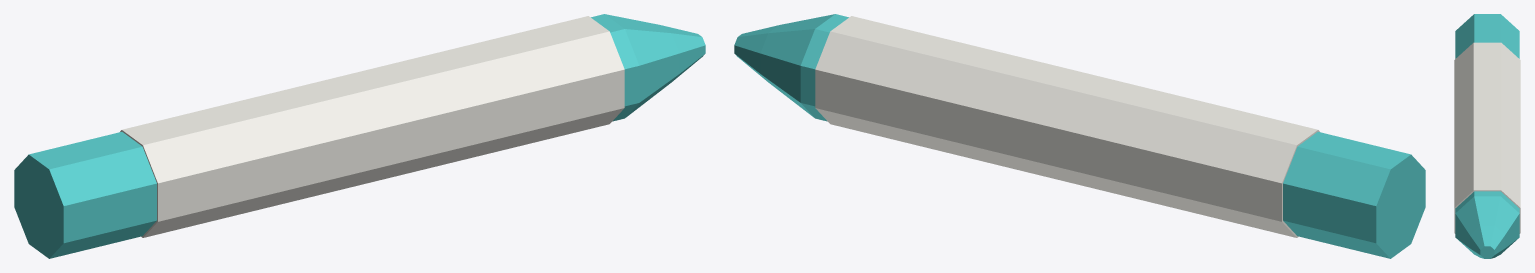
The model's file is pastello.glb.
3 views of the same model, side by side, from view 1: azimuth 30°, elevation 25°; view 2: azimuth 150°, elevation 25°; view 3: azimuth 270°, elevation 25° (orthographic). The views are drawn at different scales.
Visible parts, largest first — view 1: pastello; view 2: pastello; view 3: pastello.
Boxes of the visible parts, box(x1,y1,x2,y2) form: pastello: box(14, 14, 705, 258); pastello: box(734, 14, 1425, 258); pastello: box(1454, 14, 1520, 258).
Bounding box in the file's own units: 0.085 × 0.0114 × 0.0114.
